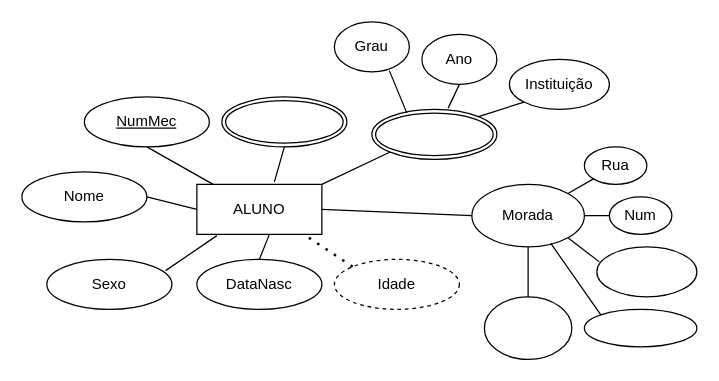
Image size: 719x381. Some labels were removed from this diagram. Each missing label, with the centre of its shape:
"Andar?" belongs at [646,271].
"CodPostal" belongs at [527,327].
"Habitação" belongs at [434,133].
"Localidade" belongs at [640,327].
"NumTelef" belongs at [284,121].
